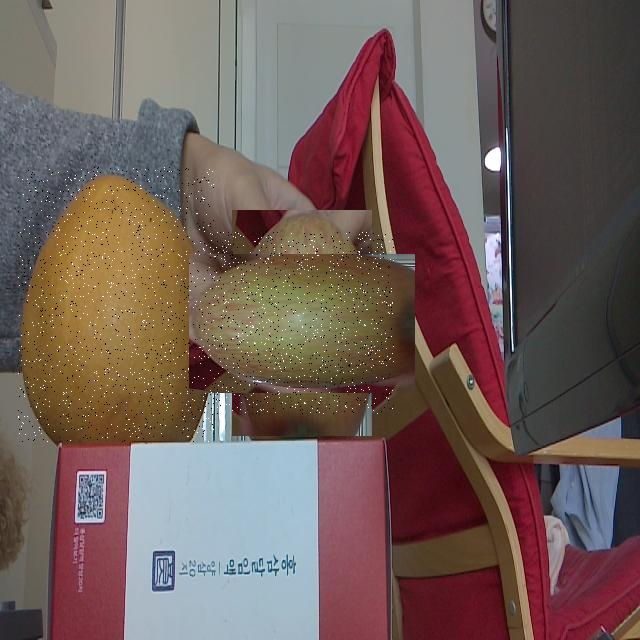apple: (210, 232, 394, 414)
pear: (18, 167, 214, 442)
